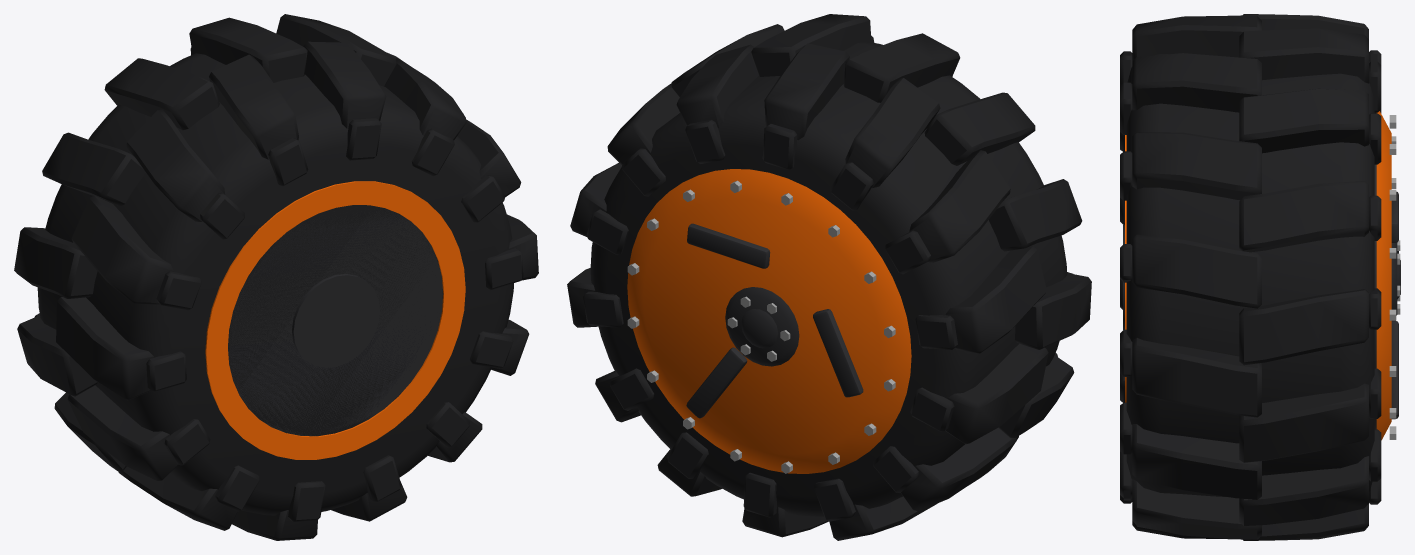
Rendered from wheel3.obj.
3 views of the same model, side by side, from view 1: azimuth 30°, elevation 25°; view 2: azimuth 150°, elevation 25°; view 3: azimuth 270°, elevation 25° (orthographic). The views are drawn at different scales.
Visible parts, largest first — view 1: wheel3; view 2: wheel3; view 3: wheel3.
Boxes of the visible parts, x1,y1,x2,y2 form: wheel3: [14, 14, 538, 540]; wheel3: [567, 14, 1091, 540]; wheel3: [1120, 14, 1400, 540].
Bounding box in the file's own units: 1.4 × 1.4 × 0.748.
